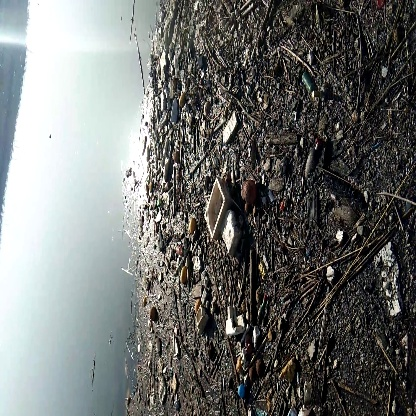plastic-garbage: (197, 176, 248, 251)
